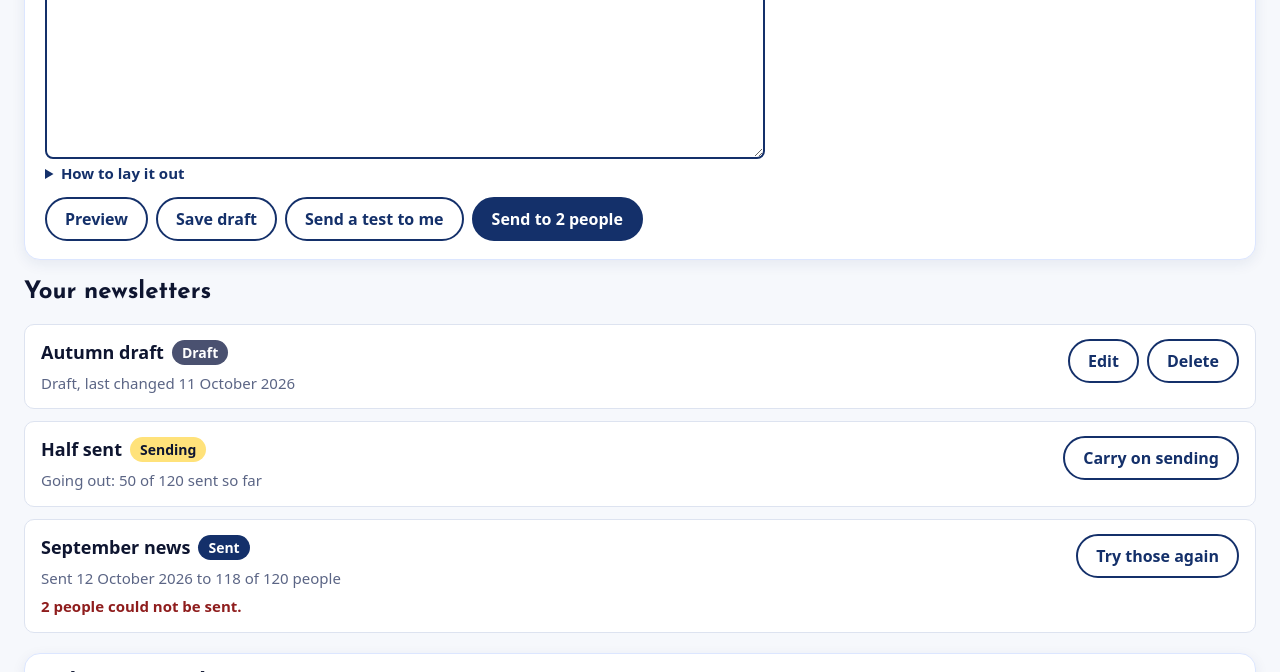
your newsletters › opens a draft in the form to edit
(page scrolled)
Click the button with aria-label "Edit the draft Autumn draft" at [1103, 361], box 1068,339 -> 1139,383
(page scrolled)
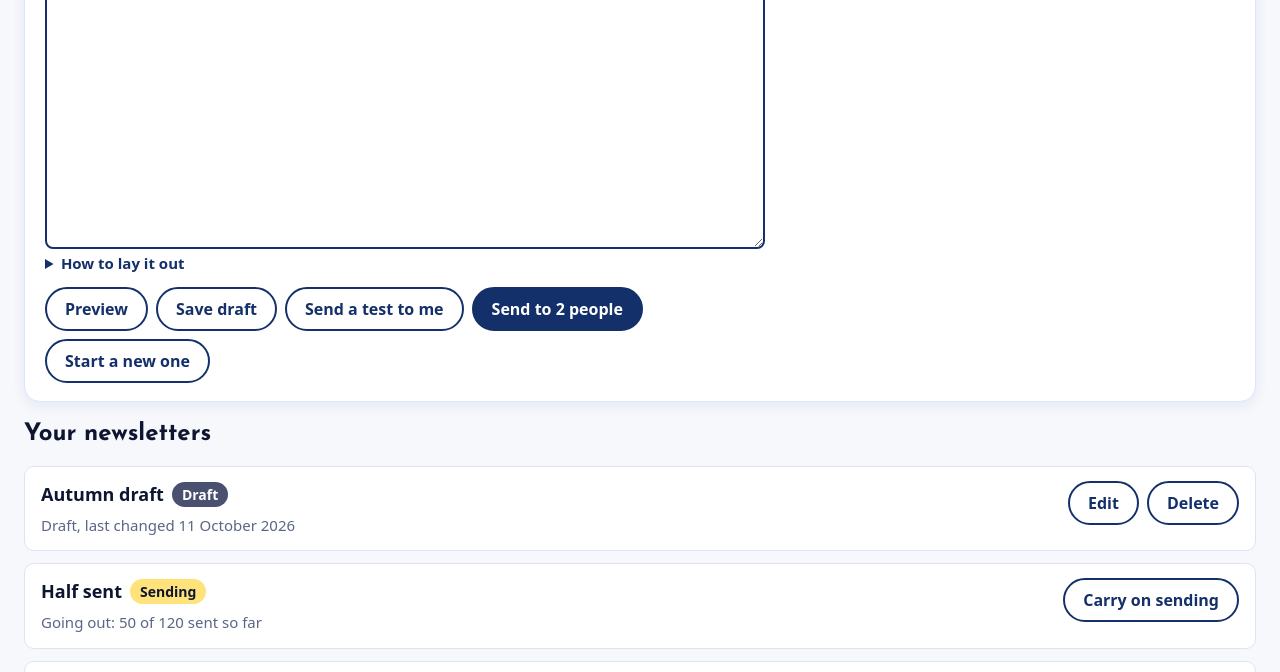
Expected: the button "Start a new one" is shown, 45,339 -> 210,383
